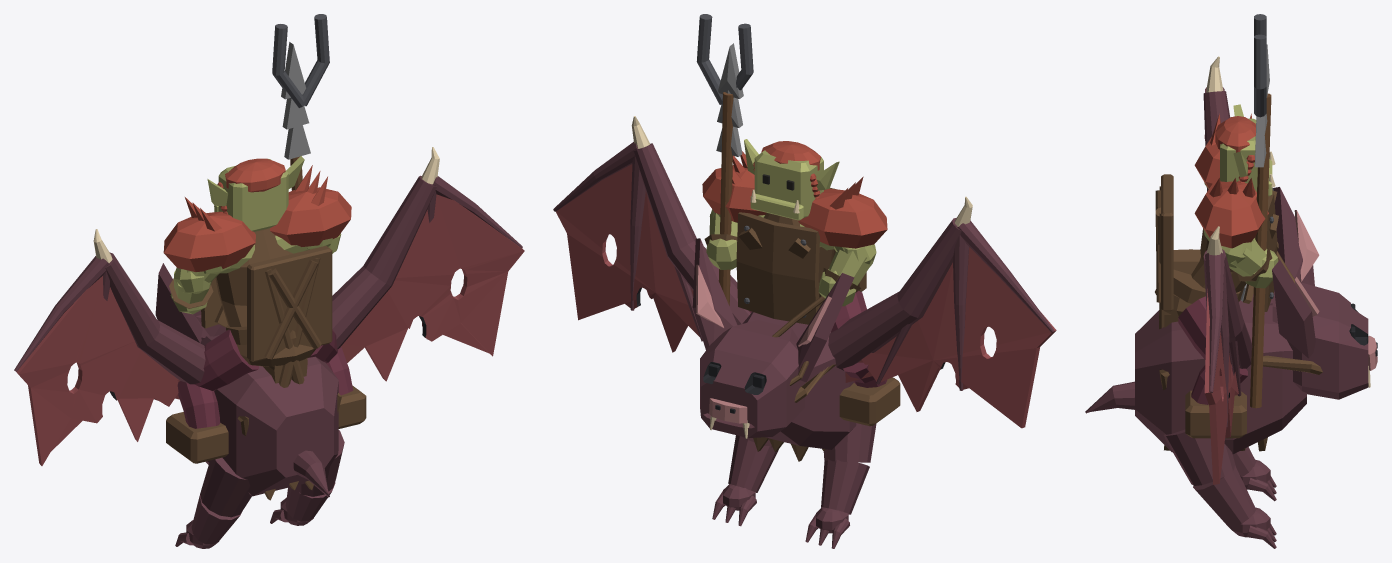
Rendered from host_15.glb.
The picture shows the model from 3 angles, left to right: view 1: azimuth 30°, elevation 25°; view 2: azimuth 150°, elevation 25°; view 3: azimuth 270°, elevation 25°; orthographic projection. The views are drawn at different scales.
Parts seen in each view (by area): view 1: V6 source mounted closed scalloped membrane R, V6 source mounted closed scalloped membrane L, V6 mount continuous anatomical thorax, V6 bloodwolf rider actual contacting broad brown rear torso , V6 source mounted wing shoulder elbow wrist bone R, V6 source mounted wing shoulder elbow wrist bone L, V6 bloodwolf rider actual thick fitted red spiked pauldron, V6 bloodwolf rider actual thick fitted red spiked pauldron.0, Observed face, V6 rider source seated thorax, Grounded boot L, V6 bat actual contacting hind thigh L (+21 smaller); view 2: V6 source mounted closed scalloped membrane L, V6 source mounted closed scalloped membrane R, V6 bat source short faceted cranium, V6 bloodwolf rider fitted broad strapped brown breast, V6 source mounted wing shoulder elbow wrist bone L, V6 mount continuous anatomical thorax, V6 source mounted wing shoulder elbow wrist bone R, V6 bloodwolf rider actual thick fitted red spiked pauldron, Observed face, Grounded boot L, V6 bat actual hind shin and ankle L, V6 bat source tall pointed anatomical ear.001 (+18 smaller); view 3: V6 mount continuous anatomical thorax, V6 bat source short faceted cranium, V6 bloodwolf rider actual thick fitted red spiked pauldron.0, V6 source mounted closed scalloped membrane R, V6 source continuous held spear shaft, V6 bat source tall pointed anatomical ear.001, V6 bat actual contacting hind thigh R, V6 bat actual hind shin and ankle R, V6 bloodwolf rider actual contacting broad brown rear torso , V6 source actual membrane finger R, V6 bat source tall pointed anatomical ear, Grounded boot R (+25 smaller).
Boxes of the visible parts, x1,y1,x2,y2 form: V6 source mounted closed scalloped membrane R: (341,194,524,381); V6 source mounted closed scalloped membrane L: (16,276,179,465); V6 mount continuous anatomical thorax: (200,335,338,496); V6 bloodwolf rider actual contacting broad brown rear torso : (247,246,332,361); V6 source mounted wing shoulder elbow wrist bone R: (332,175,436,348); V6 source mounted wing shoulder elbow wrist bone L: (105,252,205,384); V6 bloodwolf rider actual thick fitted red spiked pauldron: (163,211,255,271); V6 bloodwolf rider actual thick fitted red spiked pauldron.0: (270,187,351,246); Observed face: (218,158,288,231); V6 rider source seated thorax: (215,228,292,326); Grounded boot L: (166,412,228,463); V6 bat actual contacting hind thigh L: (200,457,251,517); V6 source mounted closed scalloped membrane L: (845,247,1056,428); V6 source mounted closed scalloped membrane R: (556,164,699,352); V6 bat source short faceted cranium: (700,319,804,437); V6 bloodwolf rider fitted broad strapped brown breast: (736,212,819,324); V6 source mounted wing shoulder elbow wrist bone L: (828,218,961,370); V6 mount continuous anatomical thorax: (742,312,856,449); V6 source mounted wing shoulder elbow wrist bone R: (633,143,750,324); V6 bloodwolf rider actual thick fitted red spiked pauldron: (797,188,887,248); Observed face: (754,150,823,218); Grounded boot L: (839,377,900,426); V6 bat actual hind shin and ankle L: (821,459,869,514); V6 bat source tall pointed anatomical ear.001: (692,238,737,349); V6 mount continuous anatomical thorax: (1135,294,1306,454); V6 bat source short faceted cranium: (1272,283,1368,399); V6 bloodwolf rider actual thick fitted red spiked pauldron.0: (1194,181,1268,248); V6 source mounted closed scalloped membrane R: (1204,289,1239,484); V6 source continuous held spear shaft: (1250,93,1271,408); V6 bat source tall pointed anatomical ear.001: (1272,260,1315,358); V6 bat actual contacting hind thigh R: (1163,429,1235,485); V6 bat actual hind shin and ankle R: (1193,465,1256,527); V6 bloodwolf rider actual contacting broad brown rear torso : (1161,174,1173,311); V6 source actual membrane finger R: (1205,252,1224,392); V6 bat source tall pointed anatomical ear: (1273,187,1314,286); Grounded boot R: (1185,390,1246,438).
Size of the model in its own units: 2.47 by 2.33 by 1.19.
